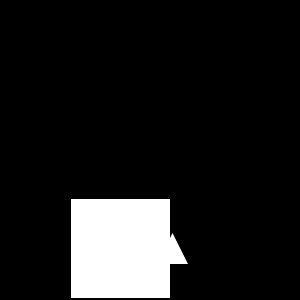circle: (71, 199, 170, 298)
triangle: (157, 233, 188, 264)
